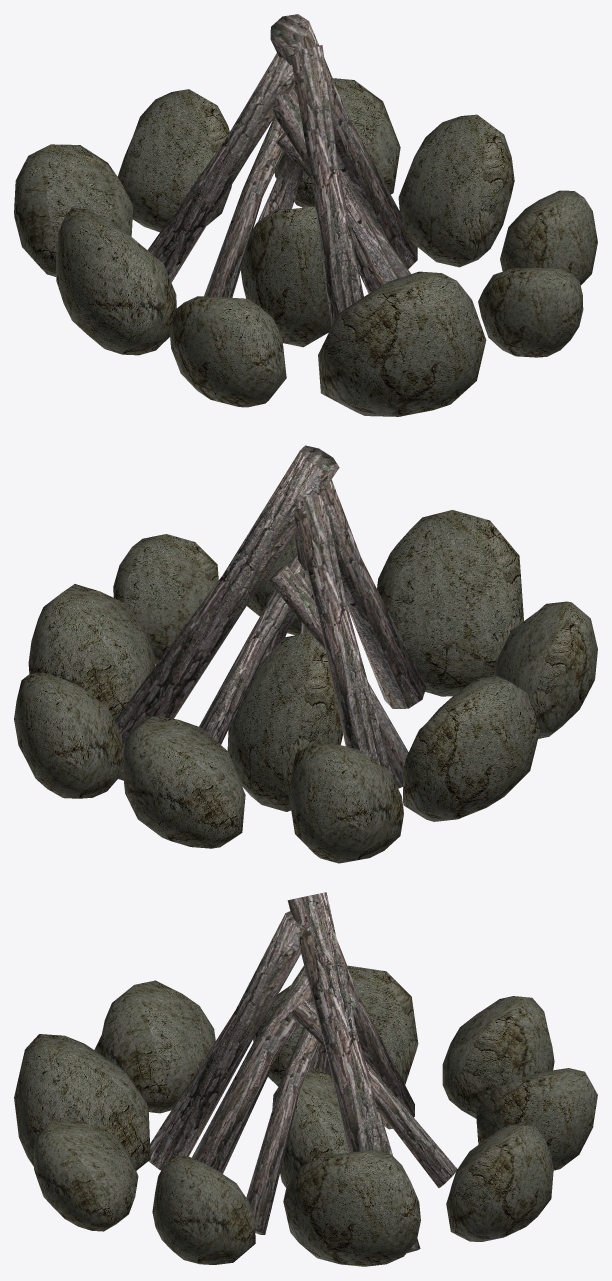
The model's file is campfire.dae.
3 views of the same model, one above another, from view 1: azimuth 30°, elevation 25°; view 2: azimuth 150°, elevation 25°; view 3: azimuth 270°, elevation 25° (orthographic). The views are drawn at different scales.
Visible parts, largest first — view 1: mesh; view 2: mesh; view 3: mesh.
Boxes of the visible parts, left/top/right/bottom form: mesh: left=14, top=14, right=597, bottom=416; mesh: left=14, top=445, right=597, bottom=863; mesh: left=14, top=892, right=597, bottom=1266.
Size of what is drawn, in the model's own units: 0.6951 by 0.8064 by 0.4988.
Materials: 2 (2 with a texture image).
